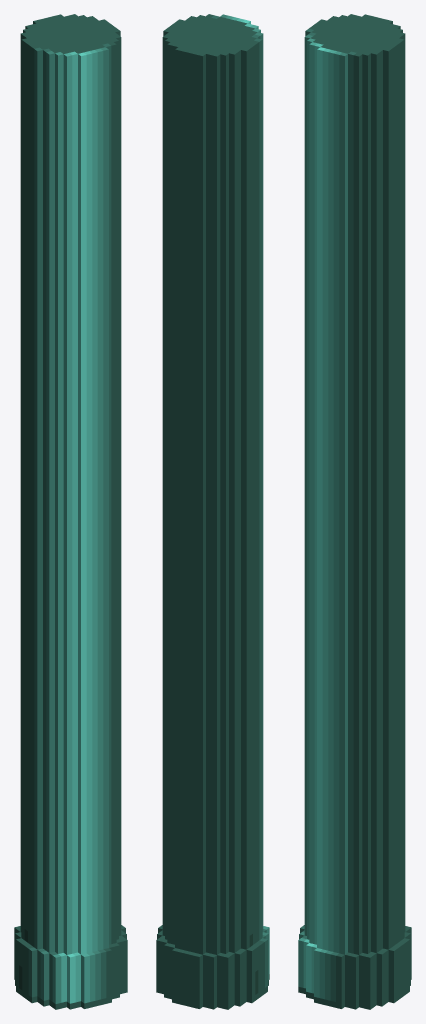
The model's file is Paradise-0.obj.
The picture shows the model from 3 angles, left to right: view 1: azimuth 30°, elevation 25°; view 2: azimuth 150°, elevation 25°; view 3: azimuth 330°, elevation 25°; orthographic projection.
Bounding box in the file's own units: 1.7 × 16.4 × 1.7.
1 material, 1 textured.
